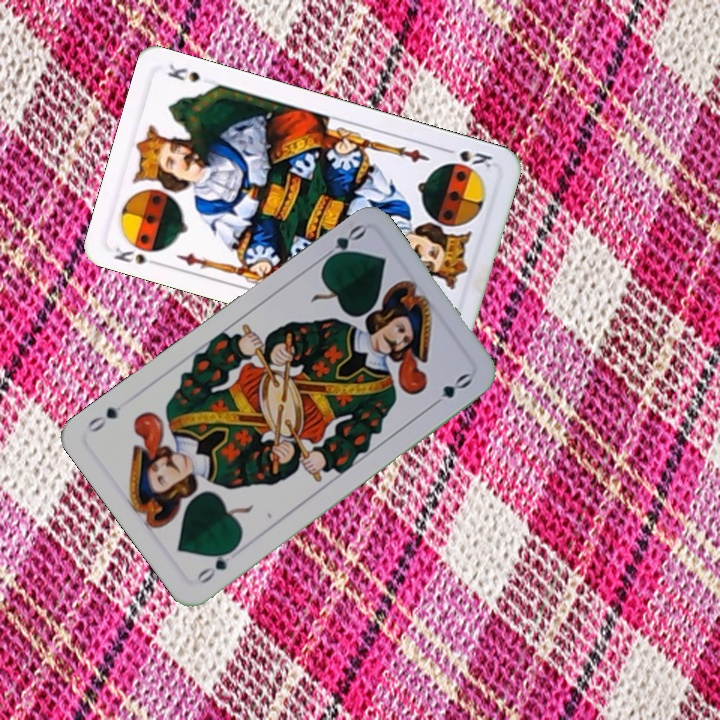GO: (315, 220, 368, 267), (192, 542, 240, 587)
SK: (439, 144, 497, 171), (110, 243, 165, 267)
